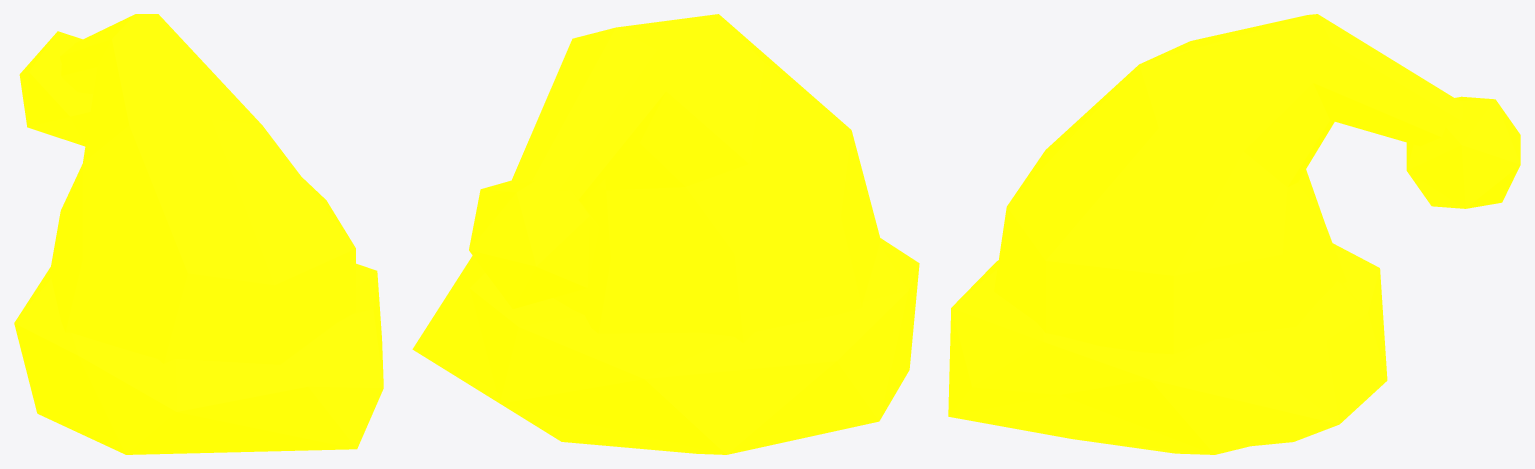
Rendered from hat-santa.glb.
3 views of the same model, side by side, from view 1: azimuth 30°, elevation 25°; view 2: azimuth 150°, elevation 25°; view 3: azimuth 270°, elevation 25° (orthographic). The views are drawn at different scales.
Visible parts, largest first — view 1: hat_santa; view 2: hat_santa; view 3: hat_santa.
Boxes of the visible parts, x1,y1,x2,y2 form: hat_santa: (14,14,383,454); hat_santa: (412,14,919,454); hat_santa: (948,14,1520,454).
Size of the model in its own units: 0.2538 by 0.2562 by 0.3467.
Materials: 1 (1 with a texture image).
